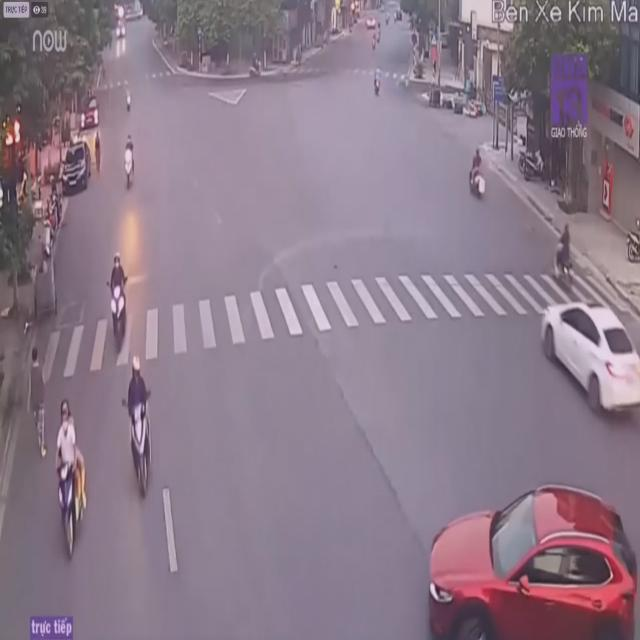car: (420, 481, 640, 640), (533, 303, 638, 421)
motorbike: (54, 399, 88, 549), (122, 358, 154, 499), (106, 254, 133, 359), (552, 223, 576, 288), (466, 145, 486, 201), (122, 134, 138, 189)
